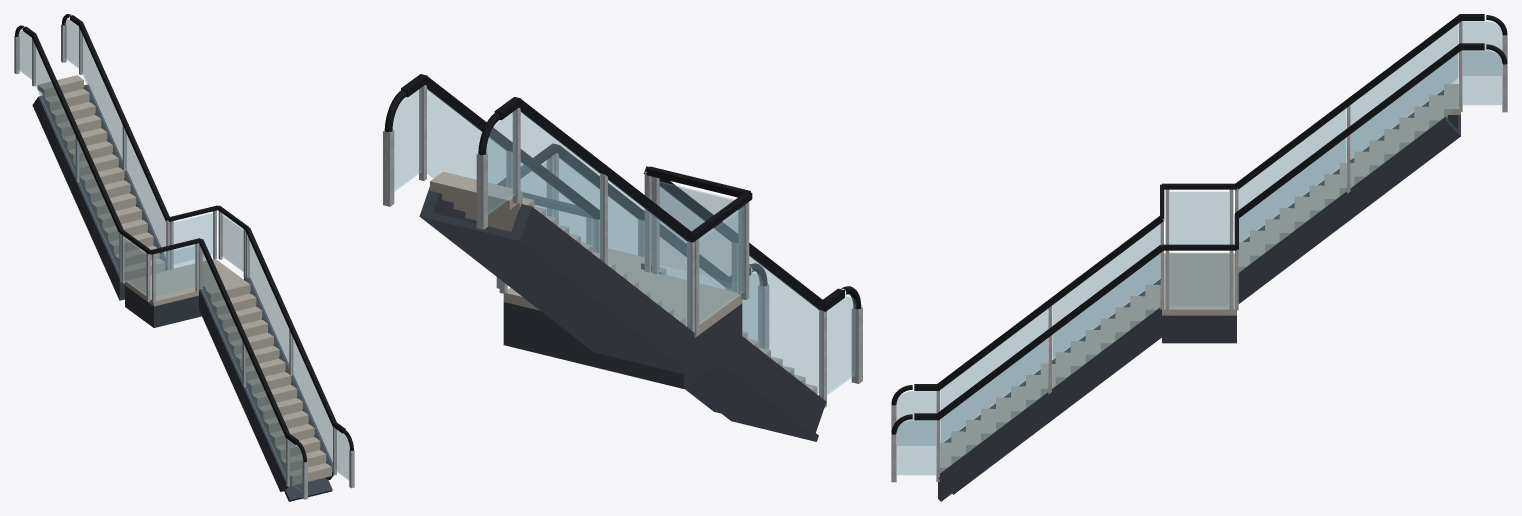
The model's file is stair-leftForward.glb.
3 views of the same model, side by side, from view 1: azimuth 30°, elevation 25°; view 2: azimuth 150°, elevation 25°; view 3: azimuth 270°, elevation 25° (orthographic). The views are drawn at different scales.
Visible parts, largest first — view 1: StairLeftForward, stair-stringer (×4), stair-landing, stair-riser (×9), stair-landing-surface, stair-landing-frame, stair-soffit; view 2: StairLeftForward, stair-stringer (×3), stair-landing, stair-soffit (×2), stair-landing-frame, stair-landing-surface, stair-tread; view 3: StairLeftForward, stair-stringer (×2), stair-landing, stair-landing-surface, stair-landing-frame.
Part boxes in pixels (<box>): StairLeftForward: <box>14,14,354,499</box>; stair-stringer (×4): <box>32,84,333,491</box>; stair-landing: <box>120,205,248,302</box>; stair-riser (×9): <box>60,118,308,432</box>; stair-landing-surface: <box>125,259,243,306</box>; stair-landing-frame: <box>125,285,201,327</box>; stair-soffit: <box>284,477,332,501</box>; StairLeftForward: <box>383,74,862,407</box>; stair-stringer (×3): <box>419,186,826,436</box>; stair-landing: <box>496,144,752,336</box>; stair-soffit (×2): <box>427,212,818,441</box>; stair-landing-frame: <box>503,302,742,388</box>; stair-landing-surface: <box>503,261,742,337</box>; stair-tread: <box>430,172,521,209</box>; StairLeftForward: <box>891,14,1507,482</box>; stair-stringer (×2): <box>938,117,1460,494</box>; stair-landing: <box>1160,183,1238,312</box>; stair-landing-surface: <box>1162,253,1236,315</box>; stair-landing-frame: <box>1162,315,1236,343</box>.
Bounding box in the file's own units: 2 × 6.31 × 8.25.
Materials: 5 (1 with a texture image).
